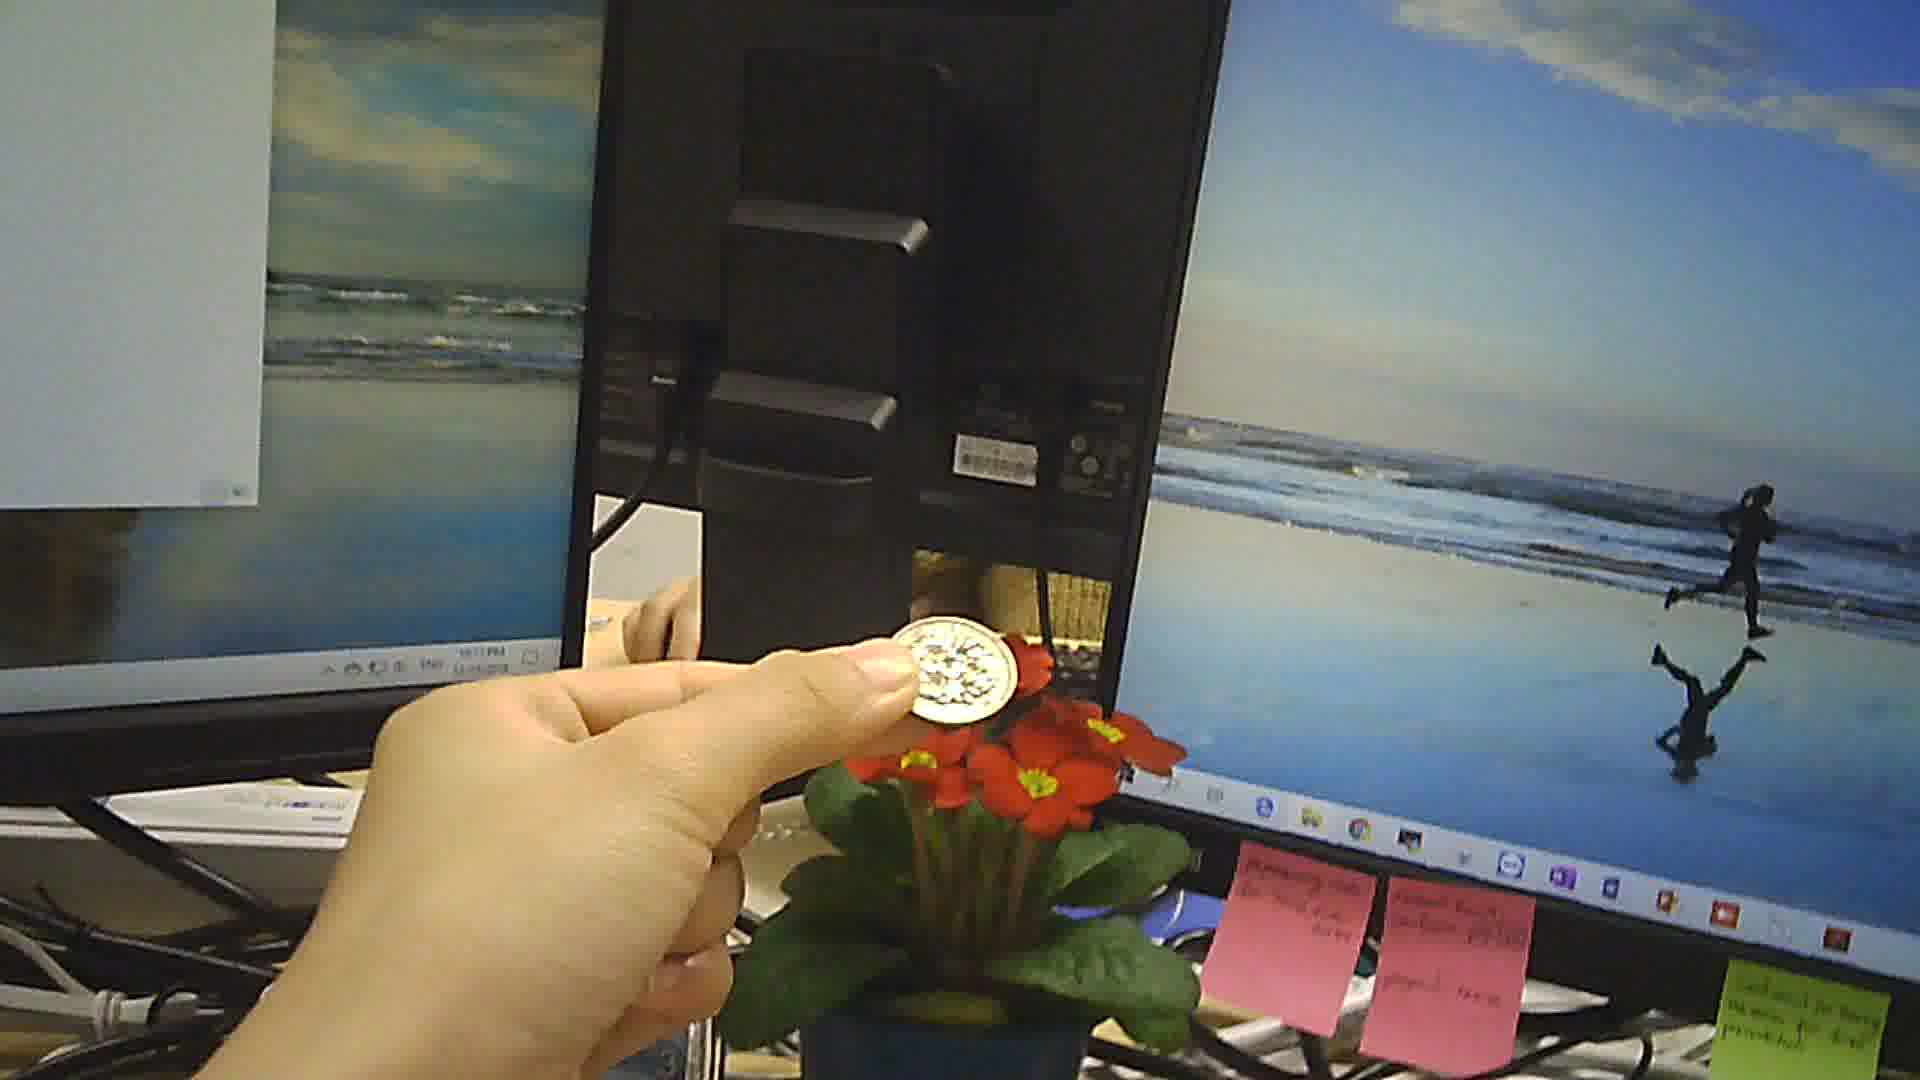100 Yen: (881, 611, 1019, 725)
